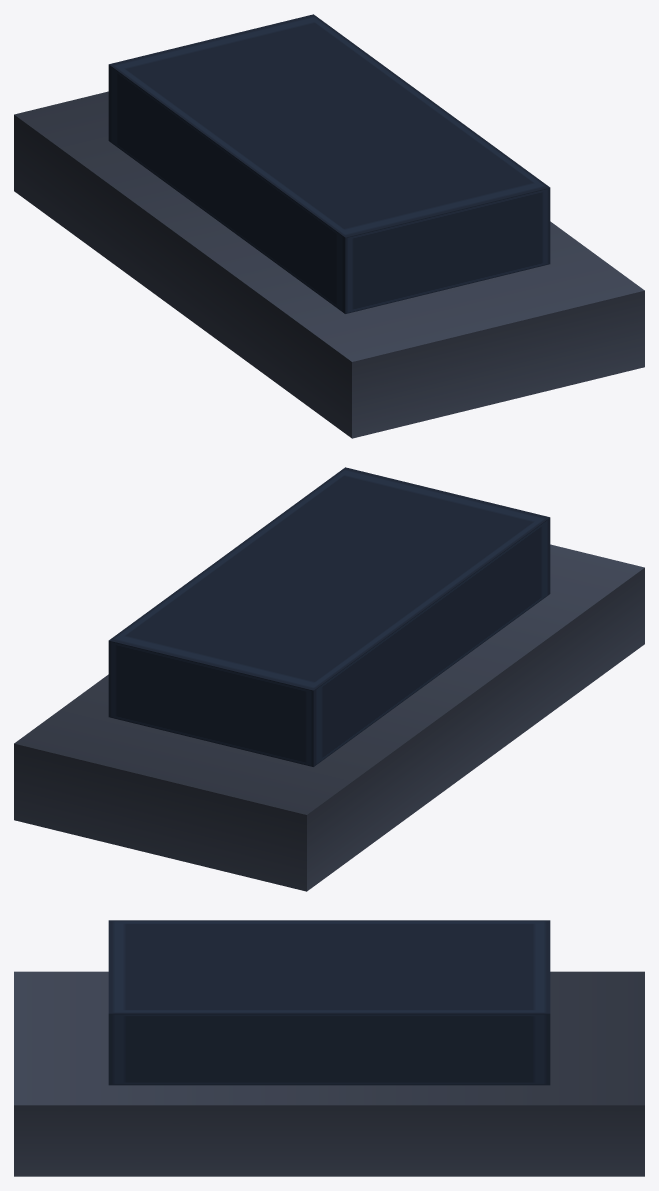
Rendered from KIT_Ramp_2x4.glb.
The picture shows the model from 3 angles, top to bottom: view 1: azimuth 30°, elevation 25°; view 2: azimuth 150°, elevation 25°; view 3: azimuth 270°, elevation 25°; orthographic projection. The views are drawn at different scales.
Visible parts, largest first — view 1: KIT_Ramp_2x4; view 2: KIT_Ramp_2x4; view 3: KIT_Ramp_2x4.
Part boxes in pixels (<box>): KIT_Ramp_2x4: <box>14,14,644,438</box>; KIT_Ramp_2x4: <box>14,467,644,891</box>; KIT_Ramp_2x4: <box>14,920,644,1176</box>.
Bounding box in the file's own units: 2 × 1 × 4.
Materials: 1 (1 with a texture image).
